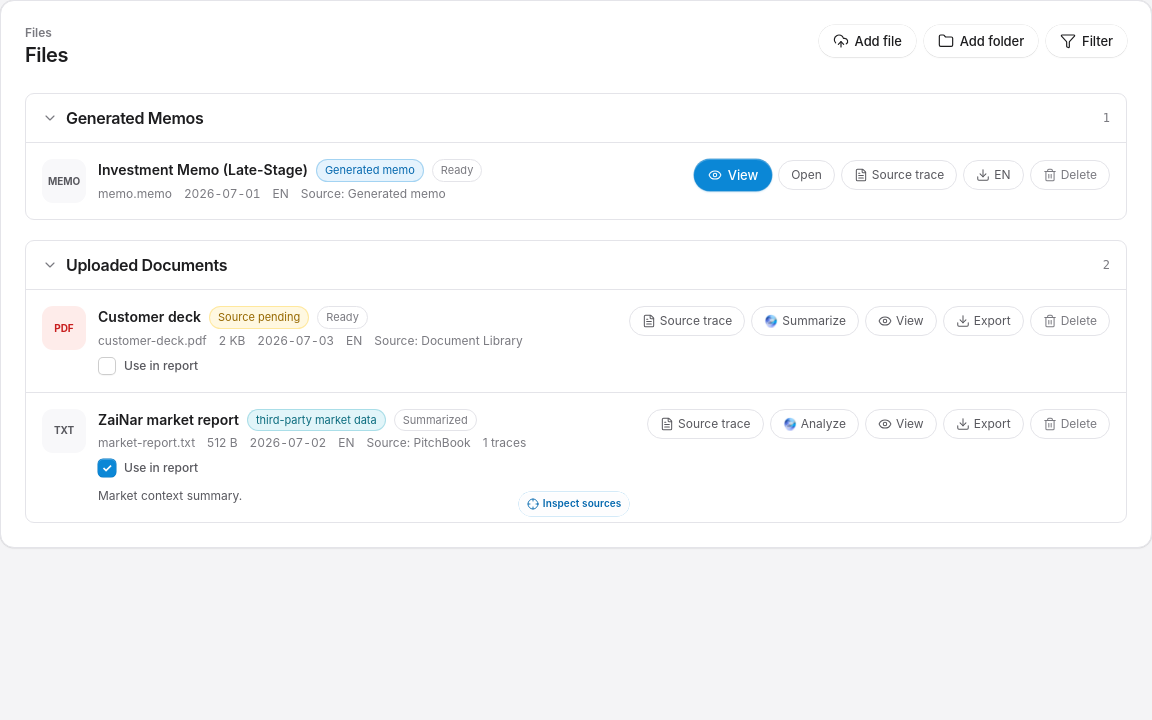
Scenario: UnifiedDocumentsView › opens the slide-in viewer for generated memos
Click the button "View" in the row of "Source: Generated memo".
click(733, 175)  # box [694,159,772,191]
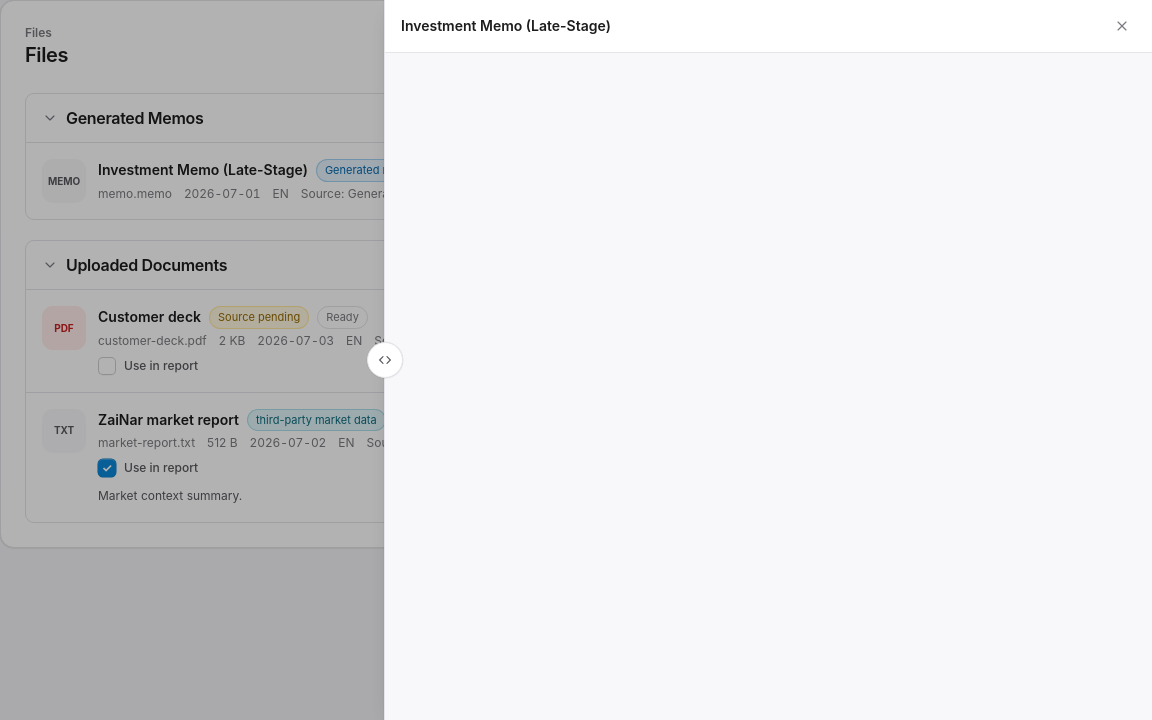
Now the dialog is shown
